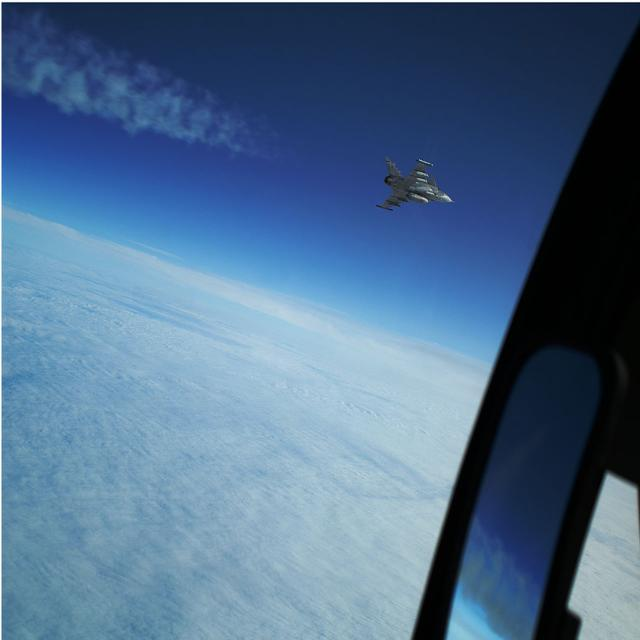MIL_Plane: (376, 156, 456, 212)
